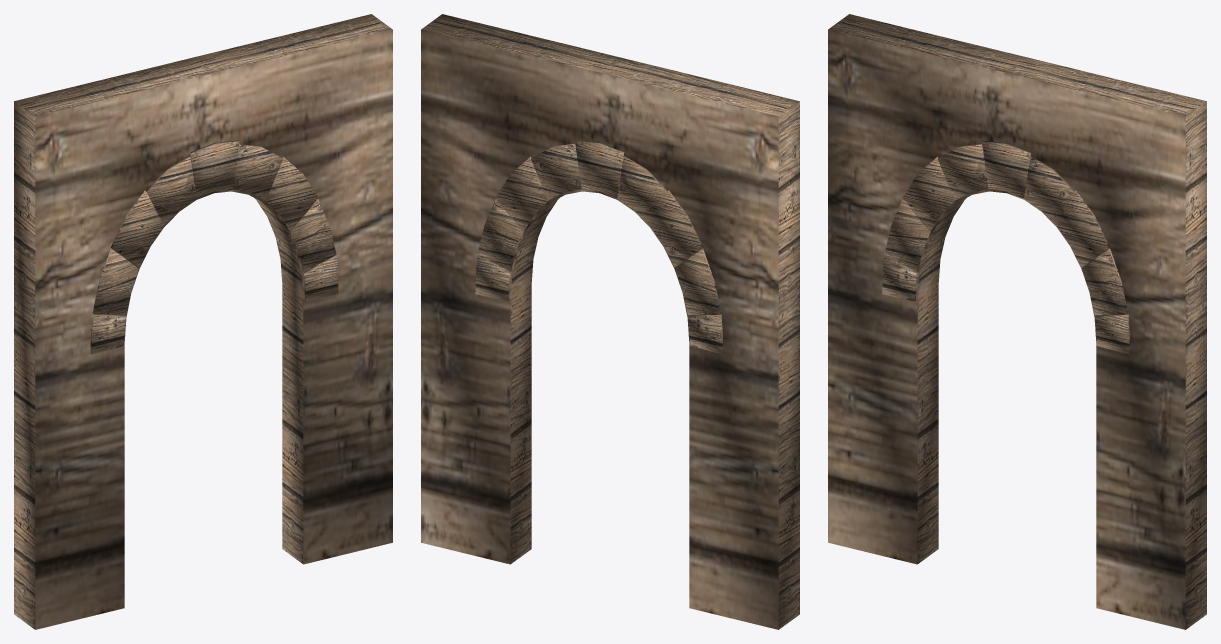
File: wood door3.glb
3 views of the same model, side by side, from view 1: azimuth 30°, elevation 25°; view 2: azimuth 150°, elevation 25°; view 3: azimuth 330°, elevation 25° (orthographic).
Visible parts, largest first — view 1: Circular Doorway.001; view 2: Circular Doorway.001; view 3: Circular Doorway.001.
Boxes of the visible parts, left/top/right/bottom form: Circular Doorway.001: left=14, top=14, right=392, bottom=629; Circular Doorway.001: left=421, top=14, right=799, bottom=629; Circular Doorway.001: left=828, top=14, right=1206, bottom=629.
Bounding box in the file's own units: 2 × 2.74 × 0.225.
Materials: 2 (2 with a texture image).
